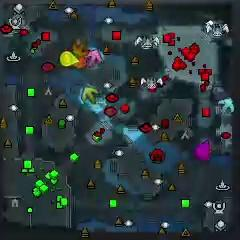p3: (193, 141, 212, 161)
p4: (59, 50, 79, 66)
p5: (72, 55, 87, 69)
x1: (85, 50, 103, 69)
x2: (81, 87, 98, 104)
x3: (217, 98, 235, 114)
x5: (71, 39, 89, 56)
